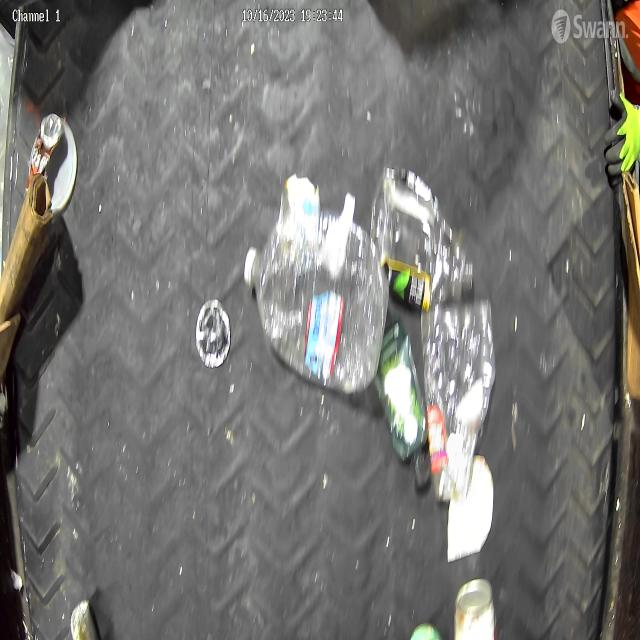can: (24, 109, 65, 195), (452, 576, 498, 640)
plastic_bottle: (245, 210, 391, 396), (367, 161, 475, 313)
